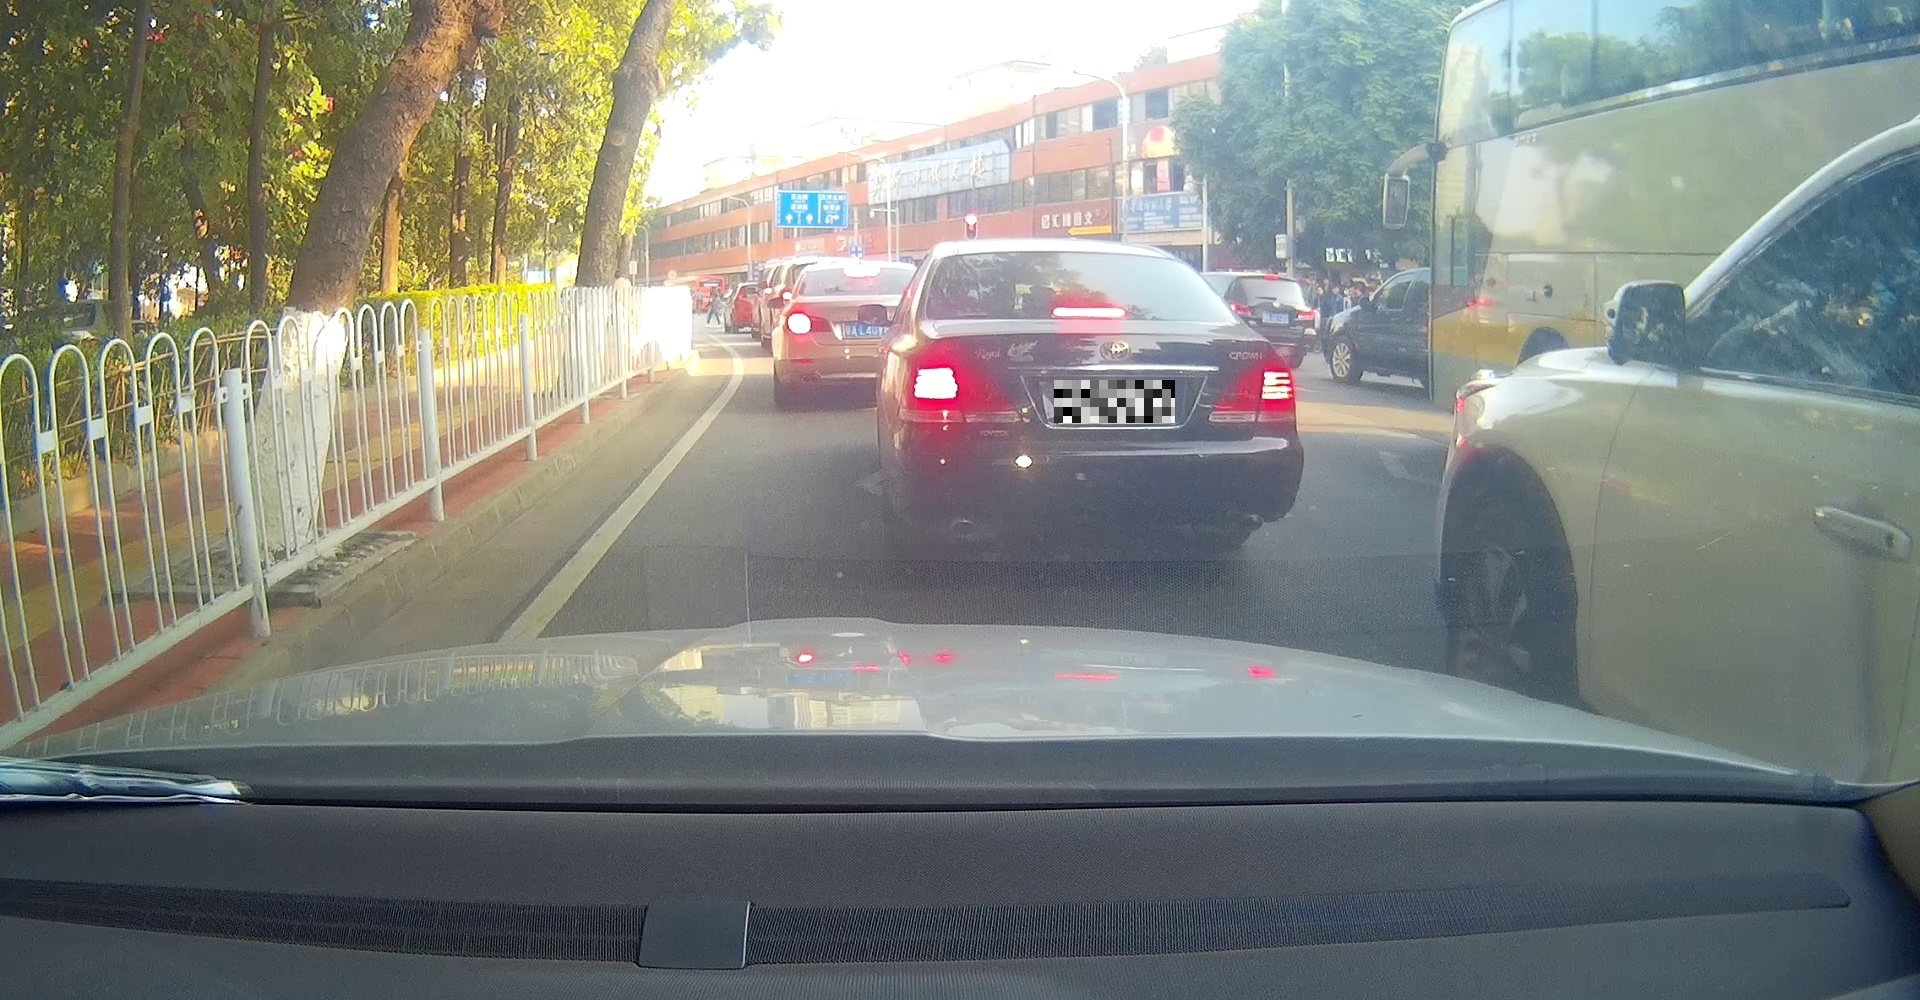L_light: (908, 357, 994, 412)
R_light: (1217, 358, 1293, 414)
T_light: (1051, 307, 1125, 319)
day-brake: (900, 239, 1303, 548)
plate_1: (1054, 379, 1175, 423)
